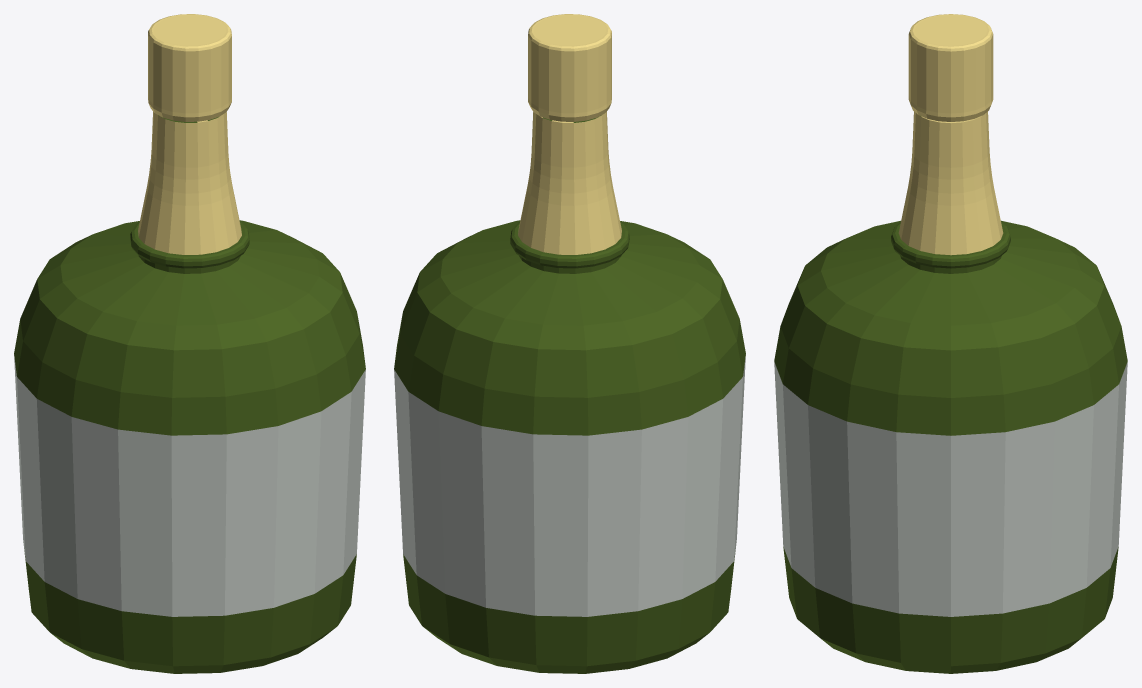
The model's file is liquor5.fbx.
The picture shows the model from 3 angles, left to right: view 1: azimuth 30°, elevation 25°; view 2: azimuth 150°, elevation 25°; view 3: azimuth 270°, elevation 25°; orthographic projection.
Visible parts, largest first — view 1: Cylinder.001; view 2: Cylinder.001; view 3: Cylinder.001.
Part boxes in pixels (bbox=[...]): Cylinder.001: bbox=[14, 14, 365, 673]; Cylinder.001: bbox=[394, 14, 745, 673]; Cylinder.001: bbox=[774, 14, 1127, 673].
Size of the model in its own units: 200 by 367 by 200.
